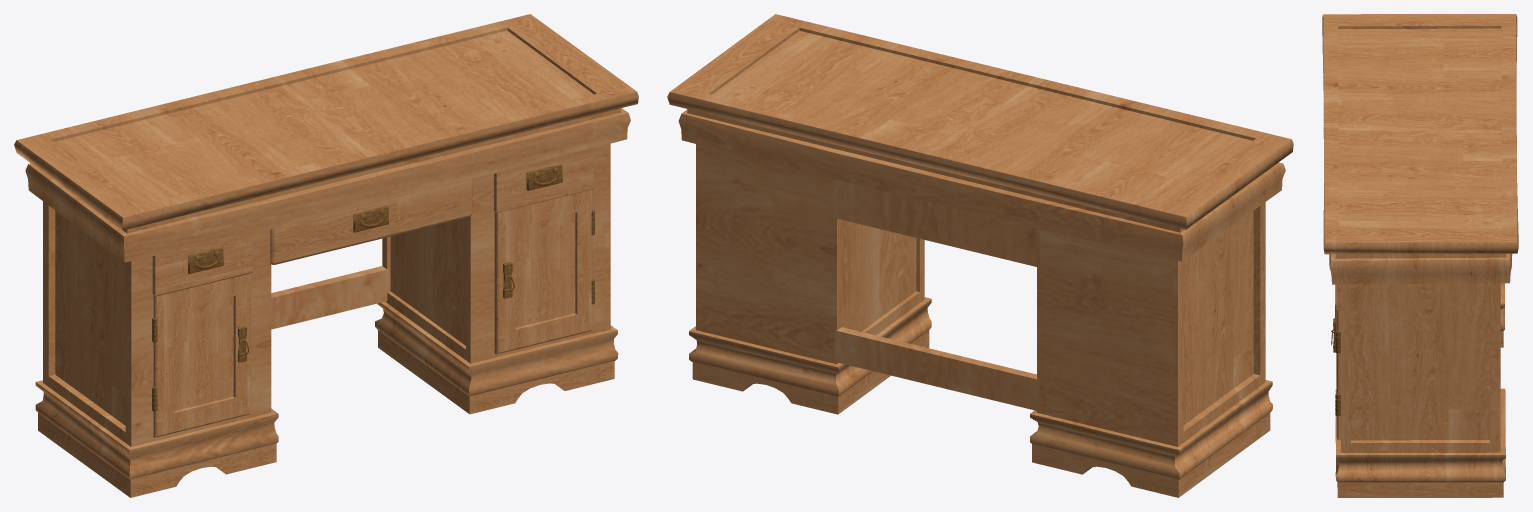
Rendered from Desk.fbx.
The picture shows the model from 3 angles, left to right: view 1: azimuth 30°, elevation 25°; view 2: azimuth 150°, elevation 25°; view 3: azimuth 270°, elevation 25°; orthographic projection. The views are drawn at different scales.
Visible parts, largest first — view 1: geoDesk; view 2: geoDesk; view 3: geoDesk.
Boxes of the visible parts, <box> form: geoDesk: <box>14,14,638,497</box>; geoDesk: <box>667,14,1293,497</box>; geoDesk: <box>1322,14,1518,497</box>.
Bounding box in the file's own units: 197 × 105 × 71.28.
